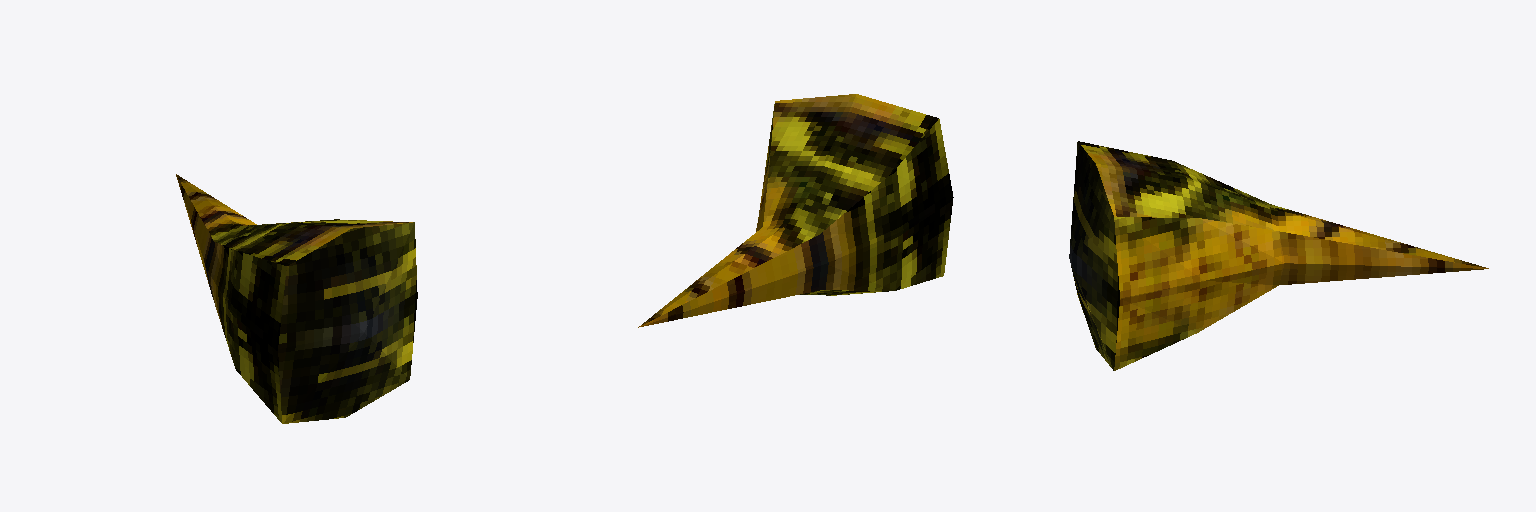
3 views of the same model, side by side, from view 1: azimuth 30°, elevation 25°; view 2: azimuth 150°, elevation 25°; view 3: azimuth 270°, elevation 25° (orthographic).
Visible parts, largest first — view 1: base; view 2: base; view 3: base.
Part boxes in pixels (x1,y1,x2,y2): base: (176,174,417,423); base: (638,94,953,327); base: (1069,141,1488,370).
Size of the model in its own units: 0.3769 by 0.4137 by 0.8414.
Materials: 1 (1 with a texture image).